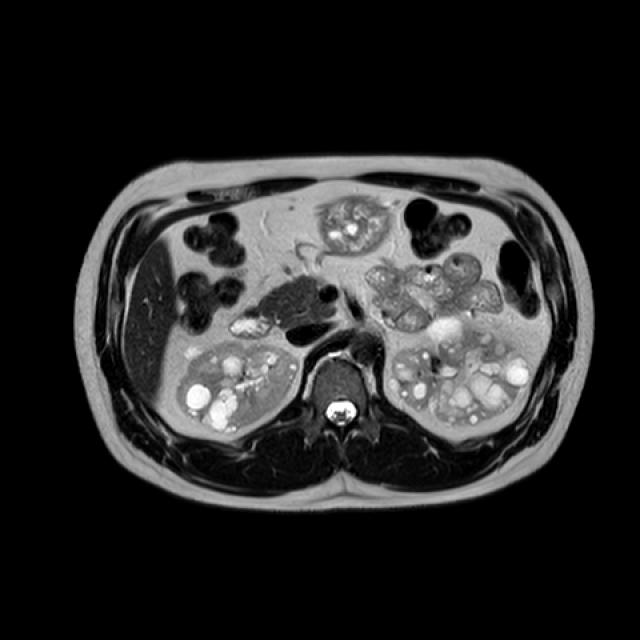sag: (181, 342, 300, 429)
sol: (390, 316, 532, 423)
